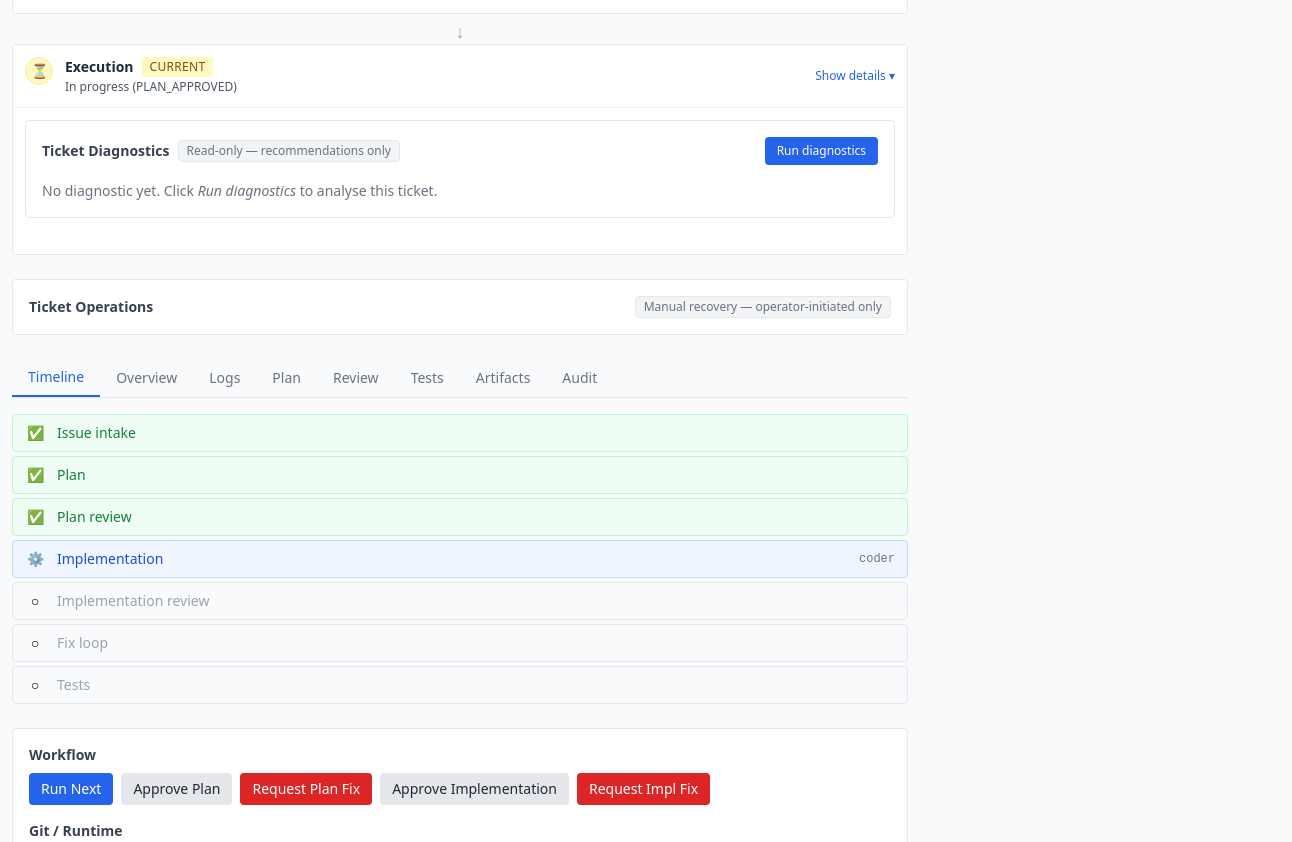
Scenario: TicketDetailPage › shows error message when action API fails
(page scrolled)
Click the button "Run Next" at coordinates (71, 789), box [29,773,113,805]
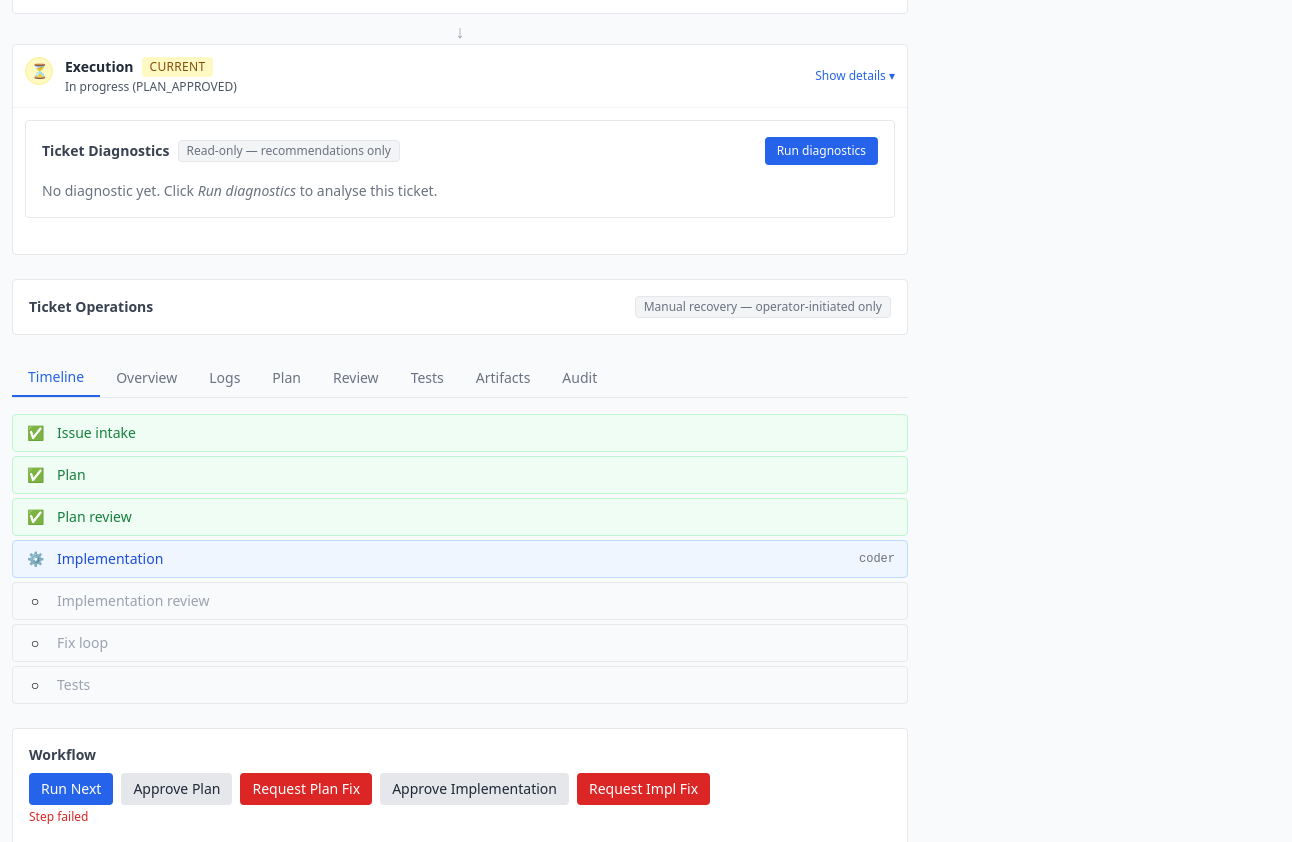
Result: the text "Step failed" is shown at [29,809,88,825]
